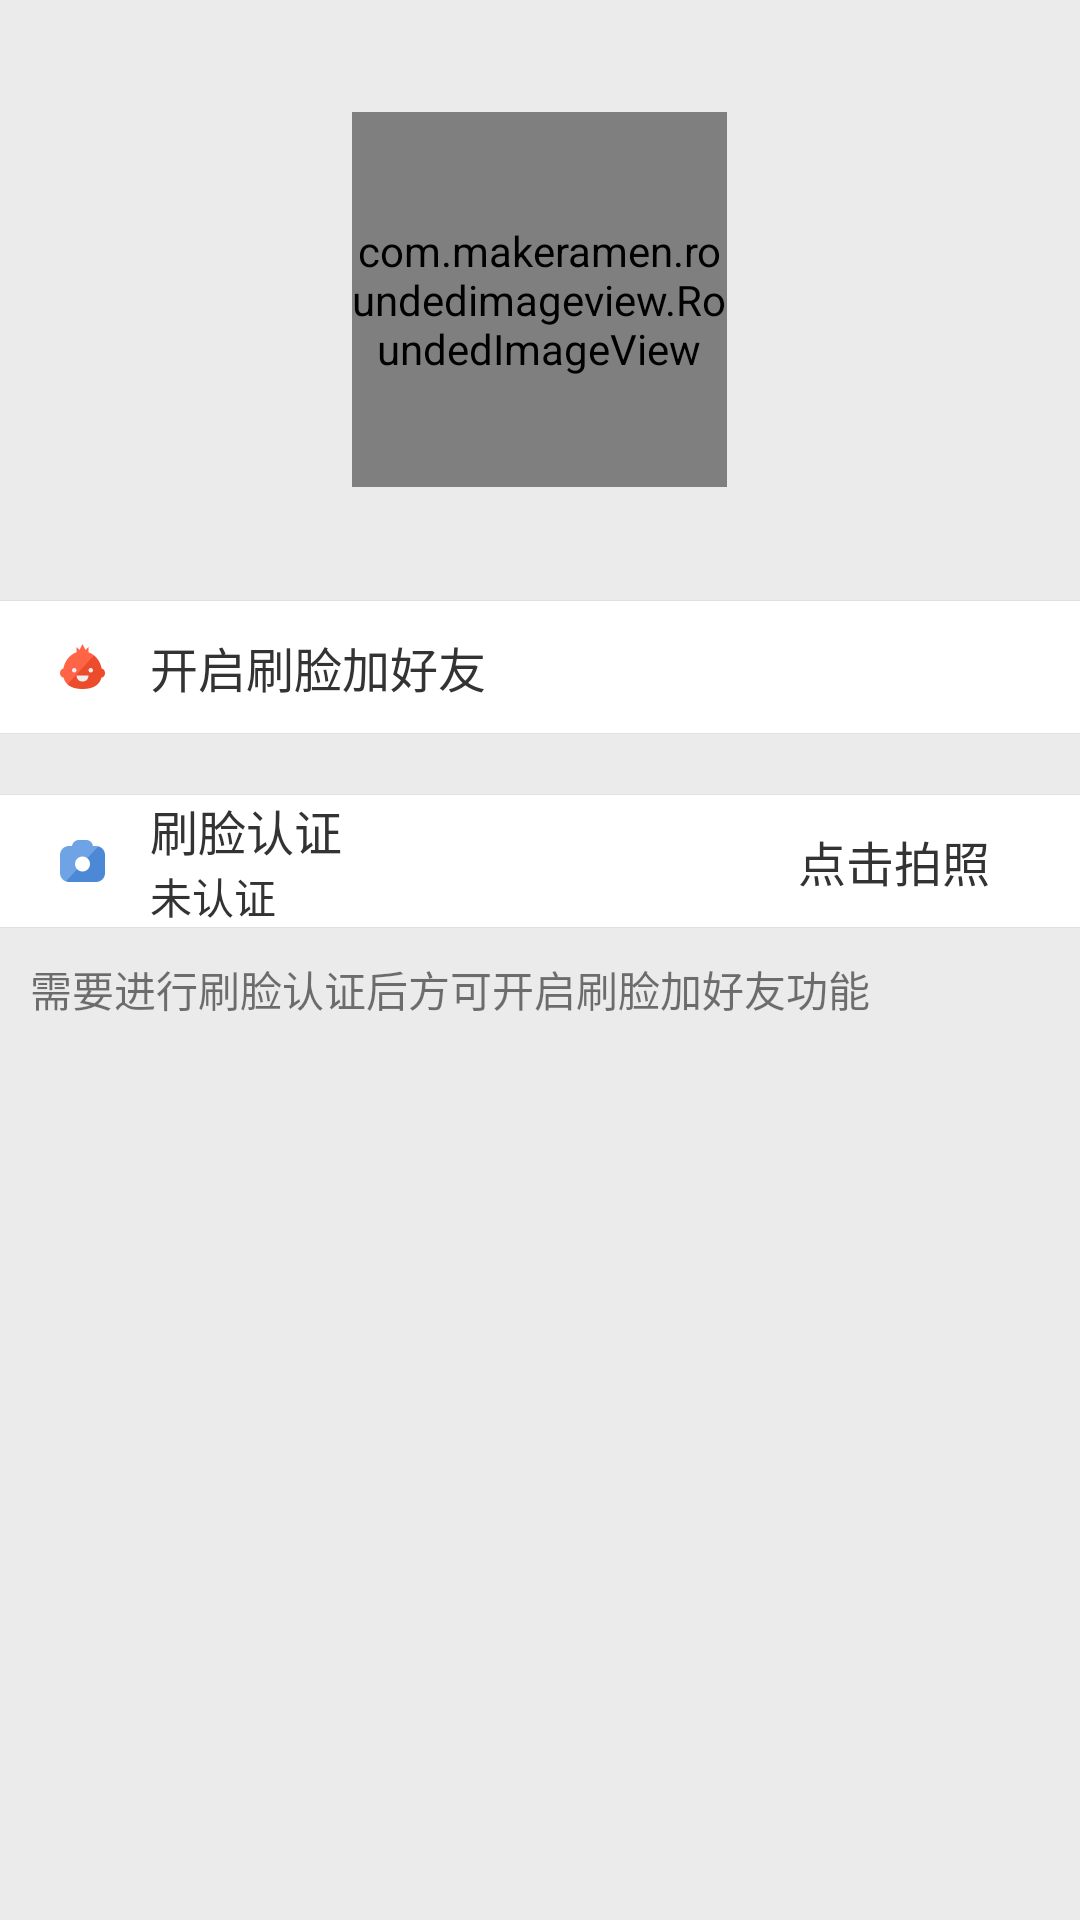

Screen size 1080px×1920px. Icon name, then its center in pixels as [x,y]:
face identification: [82,666]
face identification camera: [82,861]
